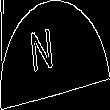N_S: (41, 26, 69, 84)
